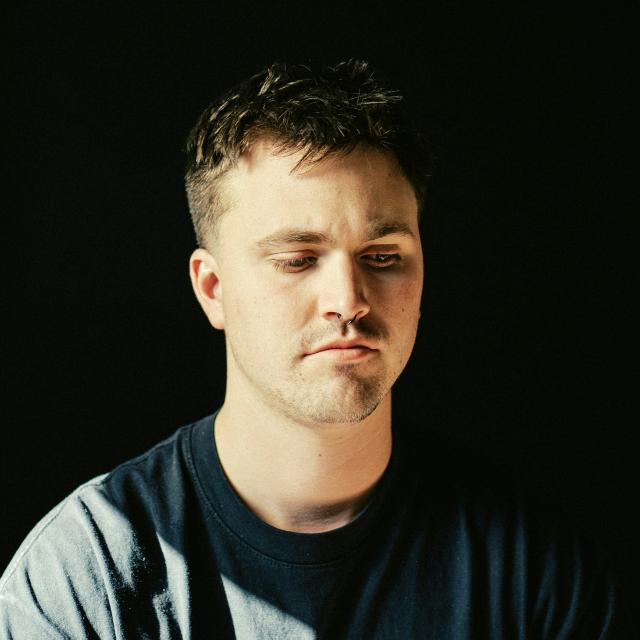human: (3, 55, 626, 640)
